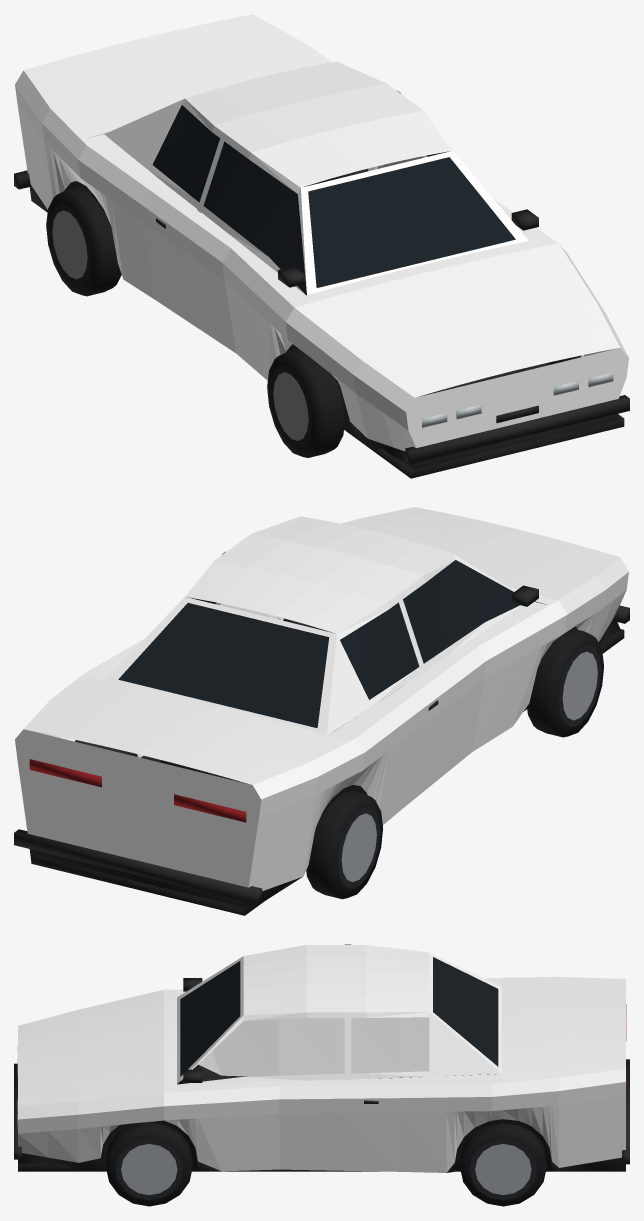
The model's file is tridella_rosaferro.glb.
The picture shows the model from 3 angles, top to bottom: view 1: azimuth 30°, elevation 25°; view 2: azimuth 150°, elevation 25°; view 3: azimuth 270°, elevation 25°; orthographic projection. The views are drawn at different scales.
Parts seen in each view (by area): view 1: Body_Paint, Body_Details, Mount_FrontLeft_Wheel_Details, Mount_RearLeft_Wheel_Details; view 2: Body_Paint, Body_Details, Mount_RearLeft_Wheel_Details, Mount_FrontLeft_Wheel_Details; view 3: Body_Paint, Body_Details, Mount_FrontRight_Wheel_Details, Mount_RearRight_Wheel_Details.
Part boxes in pixels (bbox=[...]): Body_Paint: bbox=[15, 14, 628, 451]; Body_Details: bbox=[14, 105, 629, 478]; Mount_FrontLeft_Wheel_Details: bbox=[267, 349, 345, 457]; Mount_RearLeft_Wheel_Details: bbox=[46, 187, 121, 296]; Body_Paint: bbox=[15, 507, 628, 890]; Body_Details: bbox=[14, 560, 629, 915]; Mount_RearLeft_Wheel_Details: bbox=[306, 790, 382, 899]; Mount_FrontLeft_Wheel_Details: bbox=[527, 628, 603, 737]; Body_Paint: bbox=[18, 944, 625, 1172]; Body_Details: bbox=[14, 957, 629, 1172]; Mount_FrontRight_Wheel_Details: bbox=[105, 1122, 192, 1206]; Mount_RearRight_Wheel_Details: bbox=[460, 1123, 546, 1206].
Size of the model in its own units: 1.84 by 1.34 by 4.24.
2 materials, 1 textured.
